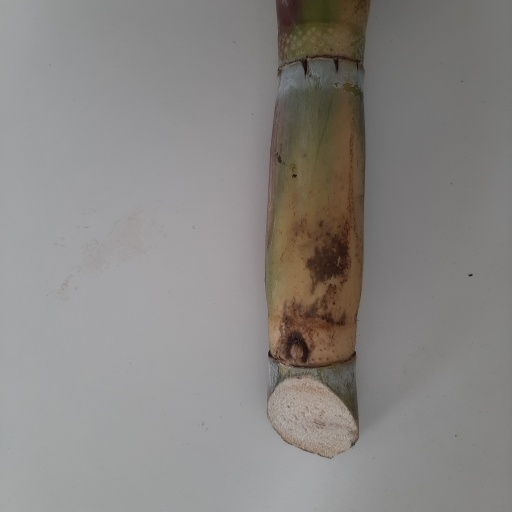Bud: (287, 338, 307, 365)
